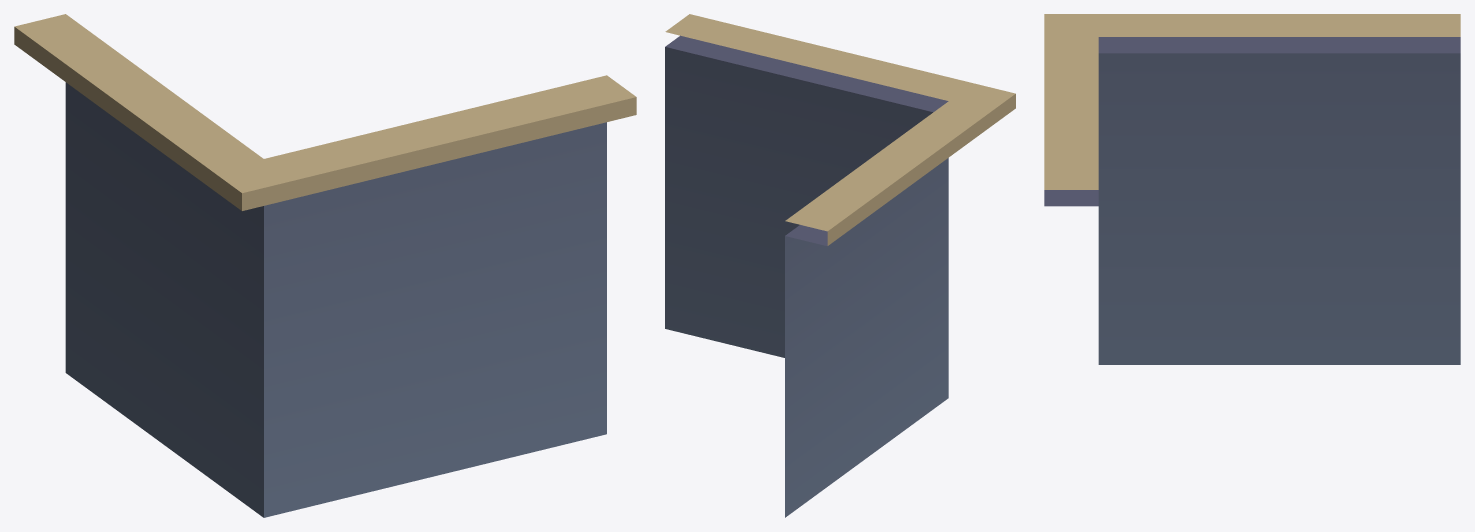
File: Wall_topCorner.fbx
3 renders of one model, left to right at view 1: azimuth 30°, elevation 25°; view 2: azimuth 150°, elevation 25°; view 3: azimuth 270°, elevation 25°, orthographic. The views are drawn at different scales.
Visible parts, largest first — view 1: Wall_topCorner; view 2: Wall_topCorner; view 3: Wall_topCorner.
Part boxes in pixels (x1=…): Wall_topCorner: x1=14, y1=14, x2=636, y2=517; Wall_topCorner: x1=665, y1=14, x2=1015, y2=517; Wall_topCorner: x1=1044, y1=14, x2=1460, y2=364.
Bounding box in the file's own units: 230 × 200 × 230.
